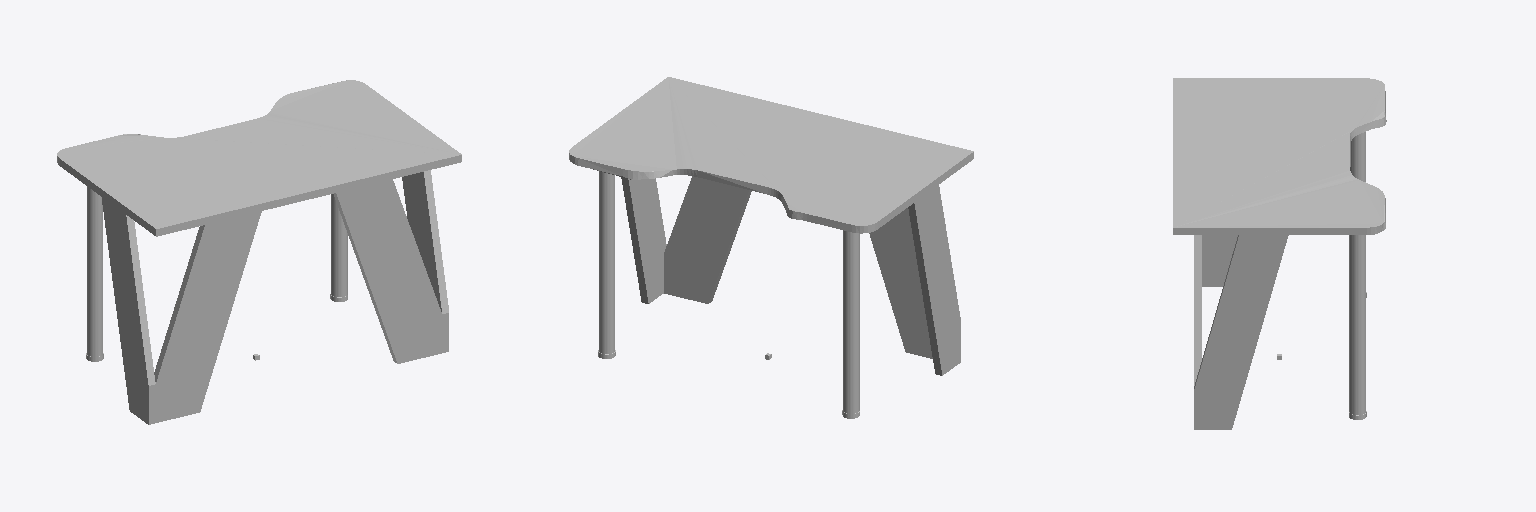
Rendered from desk.obj.
3 views of the same model, side by side, from view 1: azimuth 30°, elevation 25°; view 2: azimuth 150°, elevation 25°; view 3: azimuth 270°, elevation 25° (orthographic).
Visible parts, largest first — view 1: table_top, walls, tube; view 2: table_top, walls, tube; view 3: table_top, walls, tube.
Part boxes in pixels (x1,y1,x2,y2): table_top: (57,80,461,236); walls: (102,170,448,424); tube: (86,186,347,361); table_top: (569,77,973,233); walls: (621,176,960,375); tube: (598,171,859,418); table_top: (1173,78,1386,234); walls: (1194,235,1288,429); tube: (1349,132,1366,419).
Bounding box in the file's own units: 150 × 96.54 × 90.52.